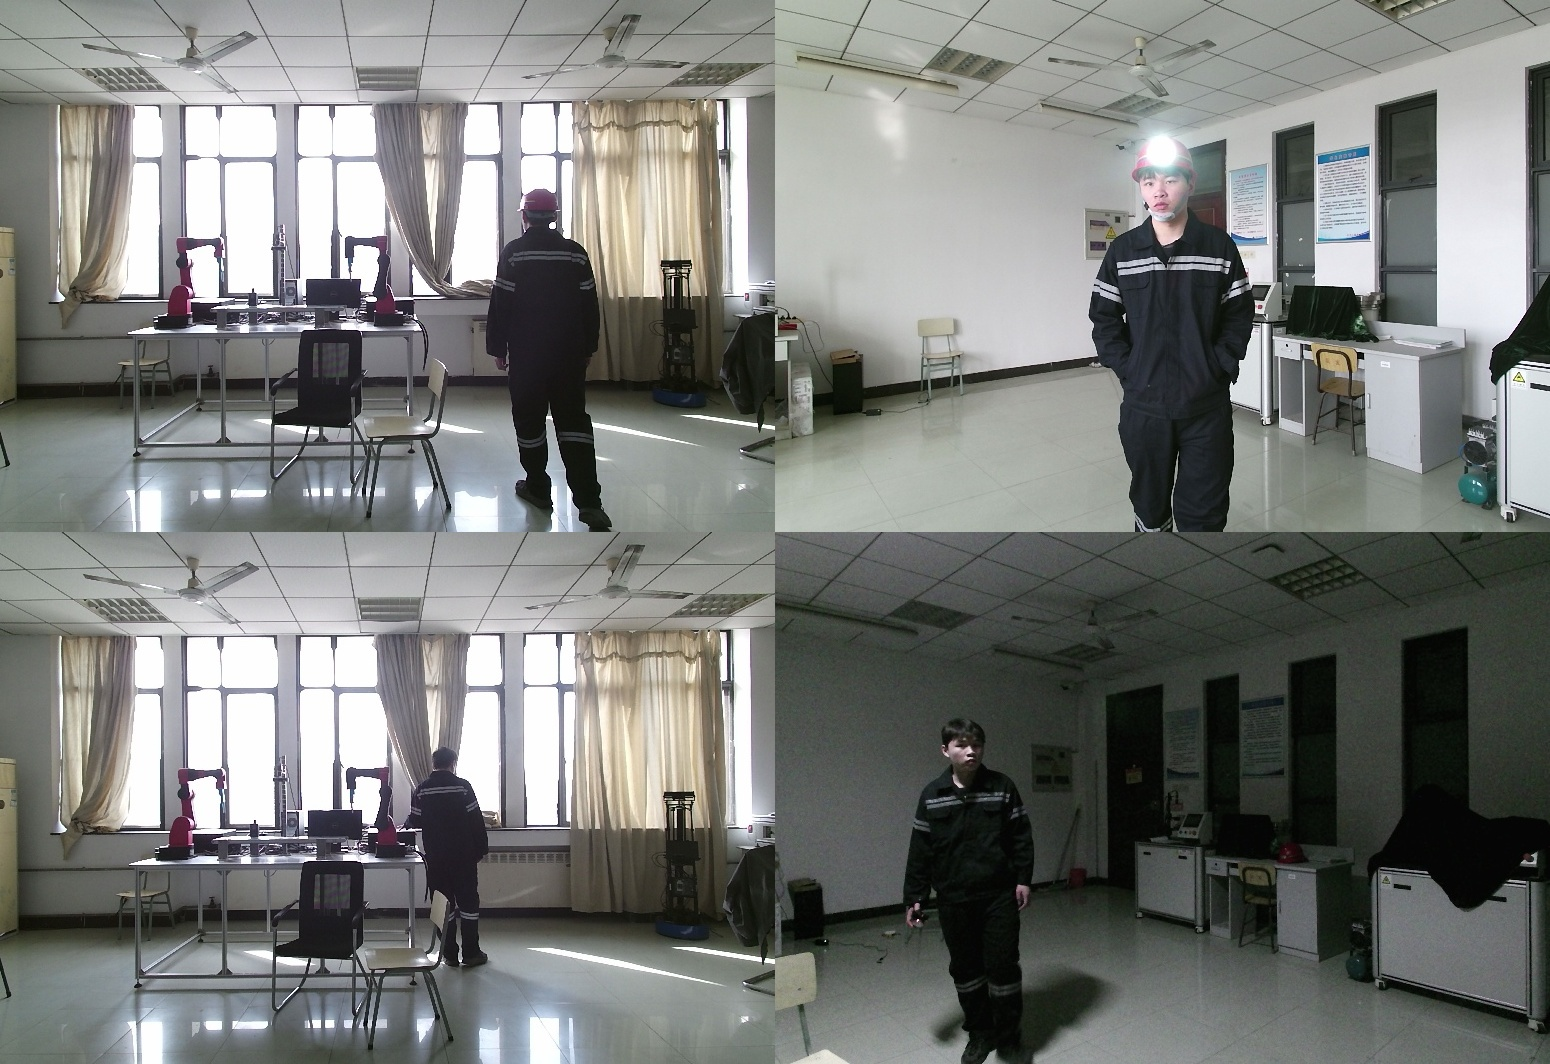person: (1089, 136, 1264, 532), (904, 719, 1043, 1064), (489, 188, 618, 532), (403, 746, 495, 969)
